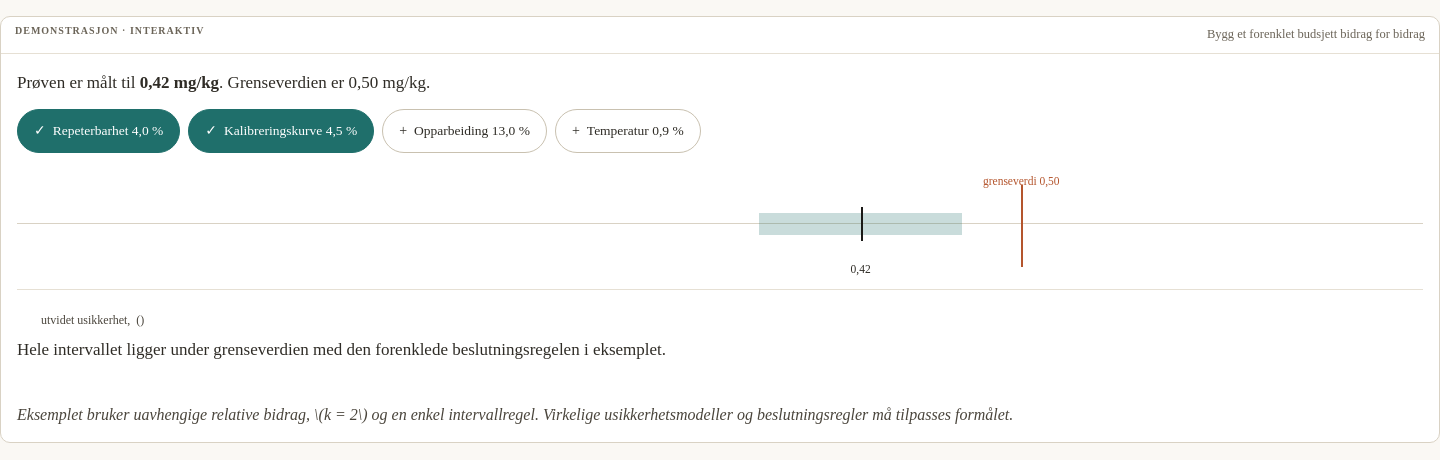
interaktive demonstrasjoner › usikkerhet: alle tre konklusjonene kan faktisk nås
This screenshot has width=1440, height=460.
Check: the text "Hele intervallet ligger under" is shown, box [17, 340, 666, 359]
# Med opparbeidingen med krysser intervallet grensa.
What coordinates should you click on to do the following:
click the button "+ Opparbeiding 13,0 %"
I would click on:
 (465, 131)
Its box is [382, 109, 547, 153].
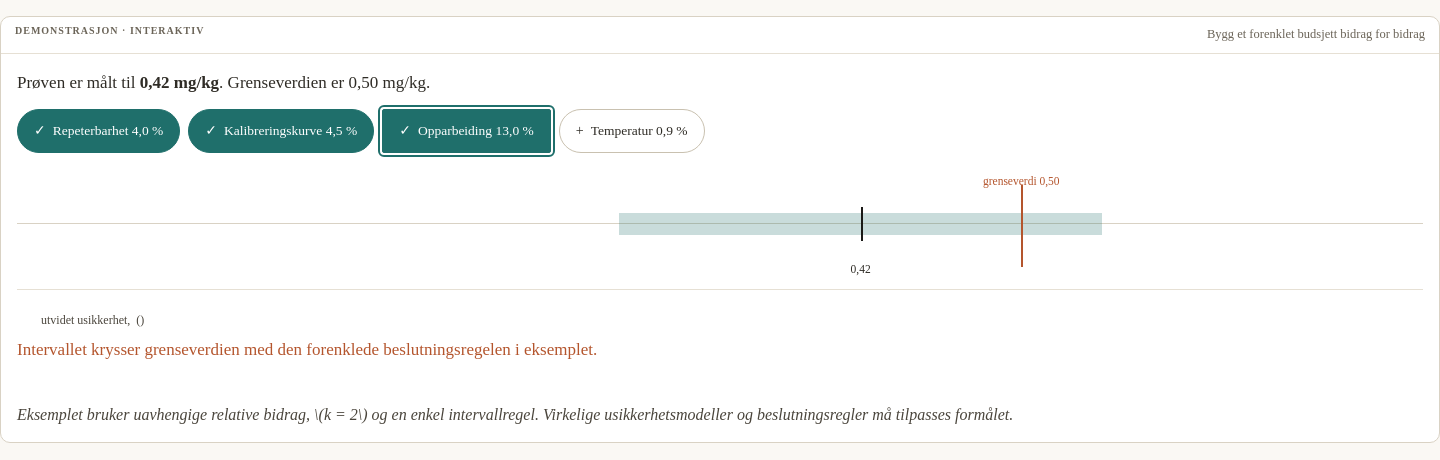
Check: the text "krysser grenseverdien" is shown, box [17, 340, 597, 359]
# Det minste bidraget endrer ikke konklusjonen — poenget med kvadratisk sum.
What coordinates should you click on to do the following:
click the button "+ Temperatur 0,9 %"
I would click on:
 (632, 131)
Its box is [559, 109, 705, 153].
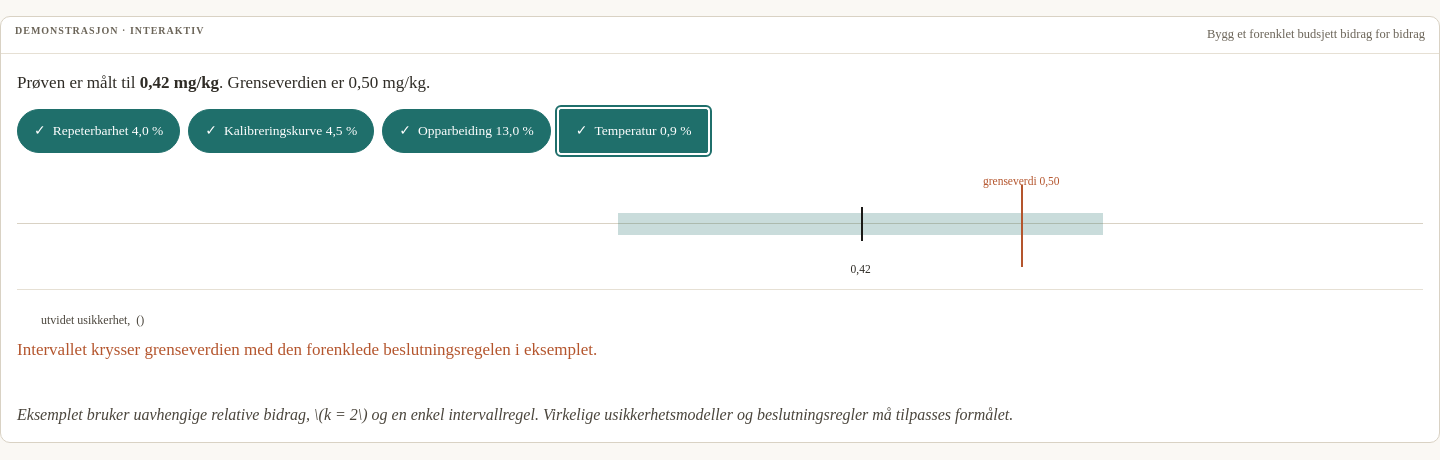
Check: the text "krysser grenseverdien" is shown, box [17, 340, 597, 359]
# Uten bidrag i det hele tatt finnes ingen slark.
What coordinates should you click on to do the following:
click the button "✓ Opparbeiding 13,0 %"
I would click on:
 (466, 131)
Its box is [382, 109, 551, 153].
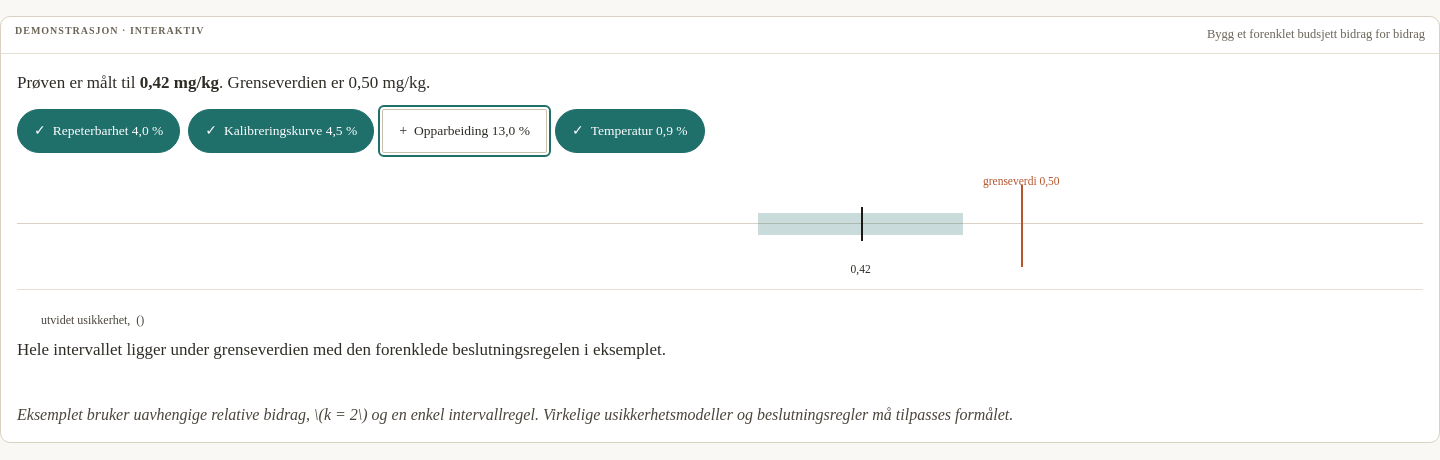
What coordinates should you click on to do the following:
click the button "✓ Temperatur 0,9 %"
I would click on:
 (630, 131)
Its box is [555, 109, 704, 153].
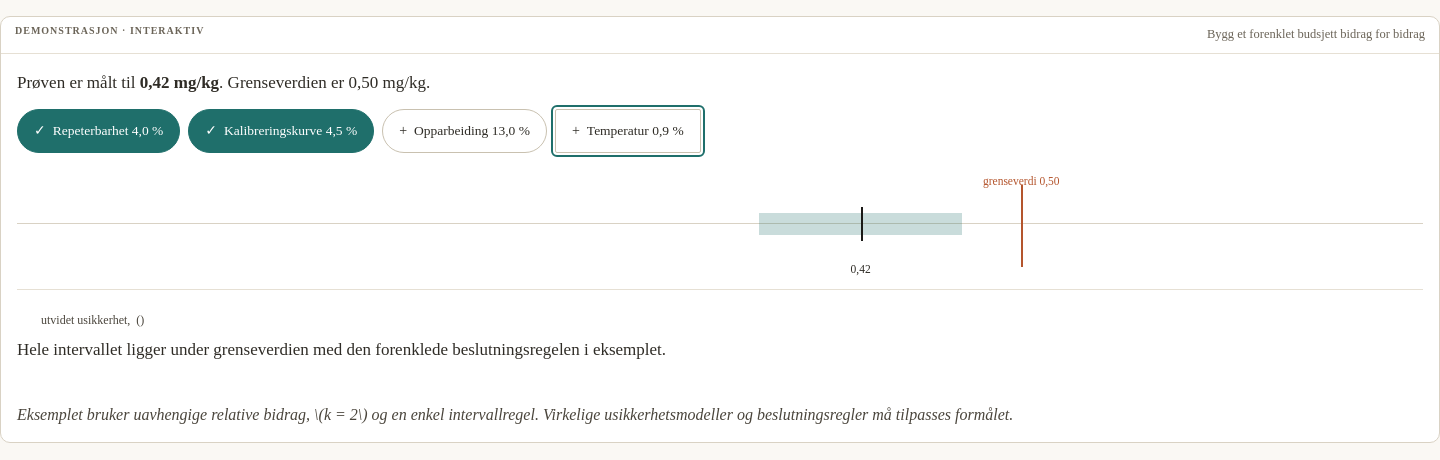
What coordinates should you click on to do the following:
click the button "✓ Repeterbarhet 4,0 %"
I would click on:
 (99, 131)
Its box is [17, 109, 180, 153].
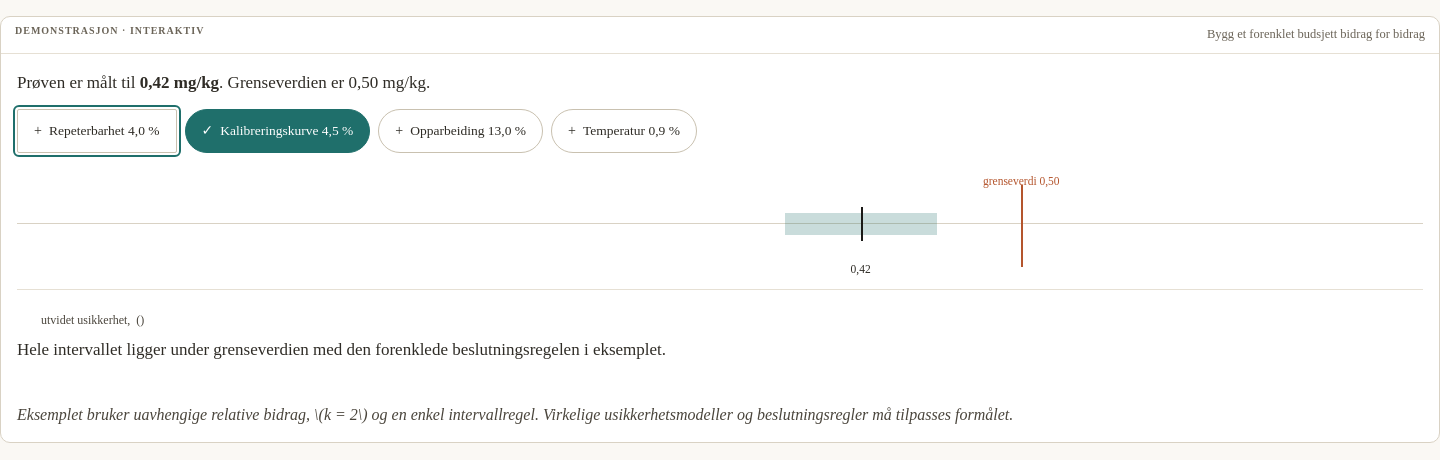
What coordinates should you click on to do the following:
click the button "✓ Kalibreringskurve 4,5 %"
I would click on:
 (277, 131)
Its box is [184, 109, 370, 153].
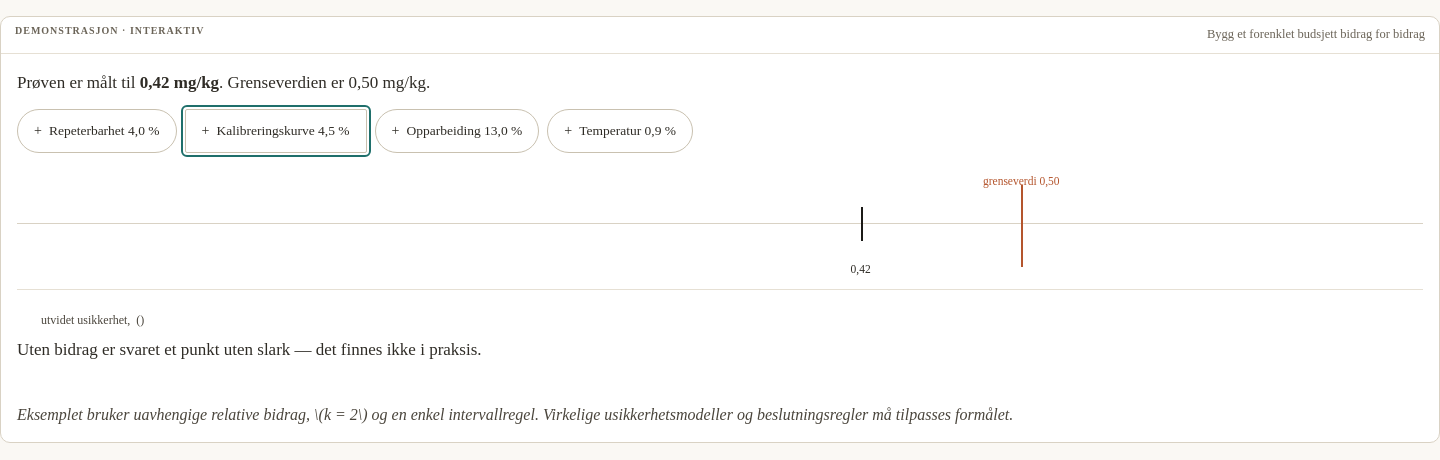
Check: the text "et punkt uten slark" is shown, box [17, 340, 482, 359]
